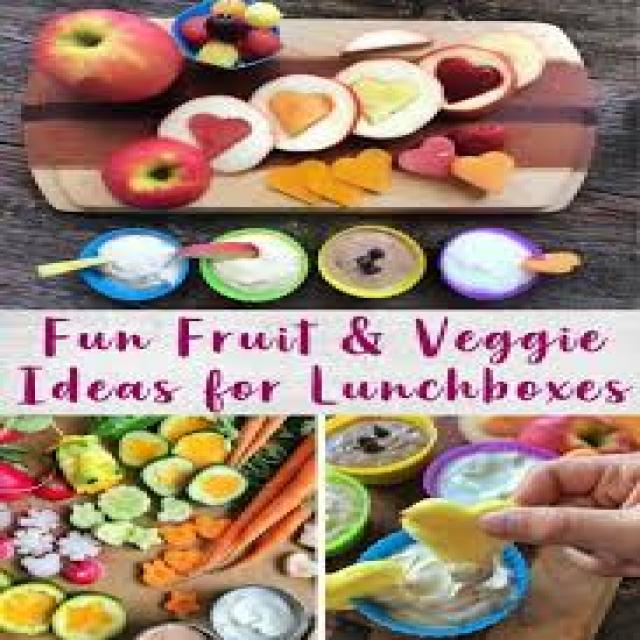Apple: (31, 8, 179, 96), (103, 132, 219, 212)
